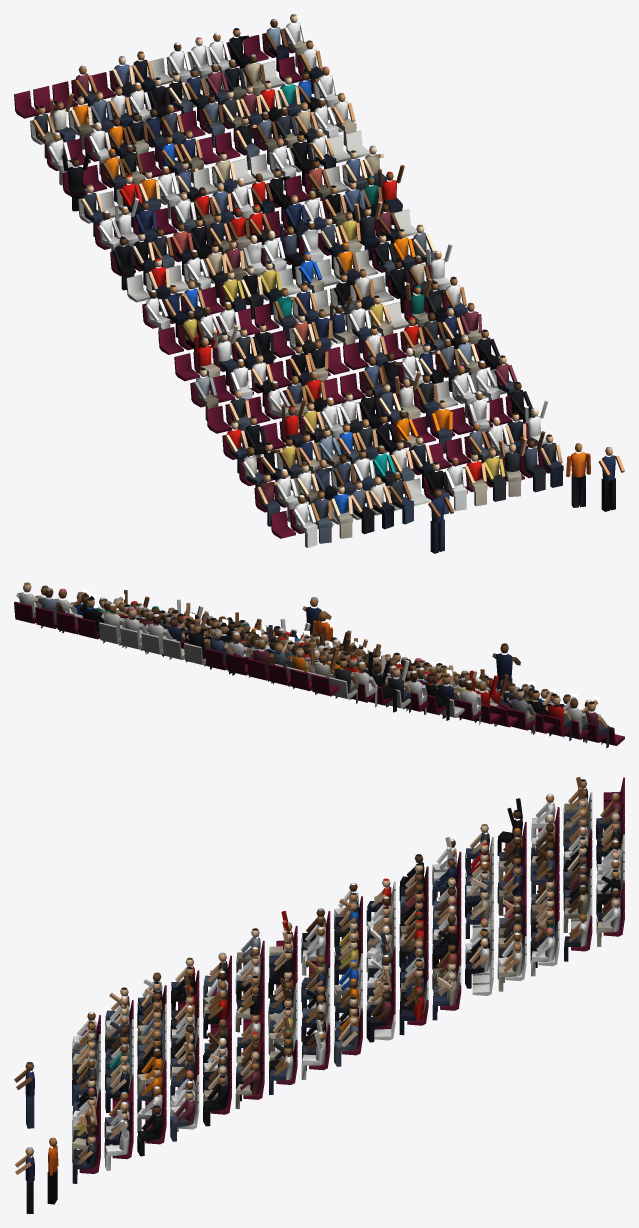
Rendered from stand_T3_kit_1.glb.
The picture shows the model from 3 angles, top to bottom: view 1: azimuth 30°, elevation 25°; view 2: azimuth 150°, elevation 25°; view 3: azimuth 270°, elevation 25°; orthographic projection. The views are drawn at different scales.
Visible parts, largest first — view 1: kit_1; view 2: kit_1; view 3: kit_1.
Boxes of the visible parts, box(x1,y1,x2,y2) form: kit_1: box(14, 14, 624, 553); kit_1: box(14, 582, 624, 748); kit_1: box(14, 777, 624, 1213).
Bounding box in the file's own units: 9.16 × 8.05 × 14.93.
